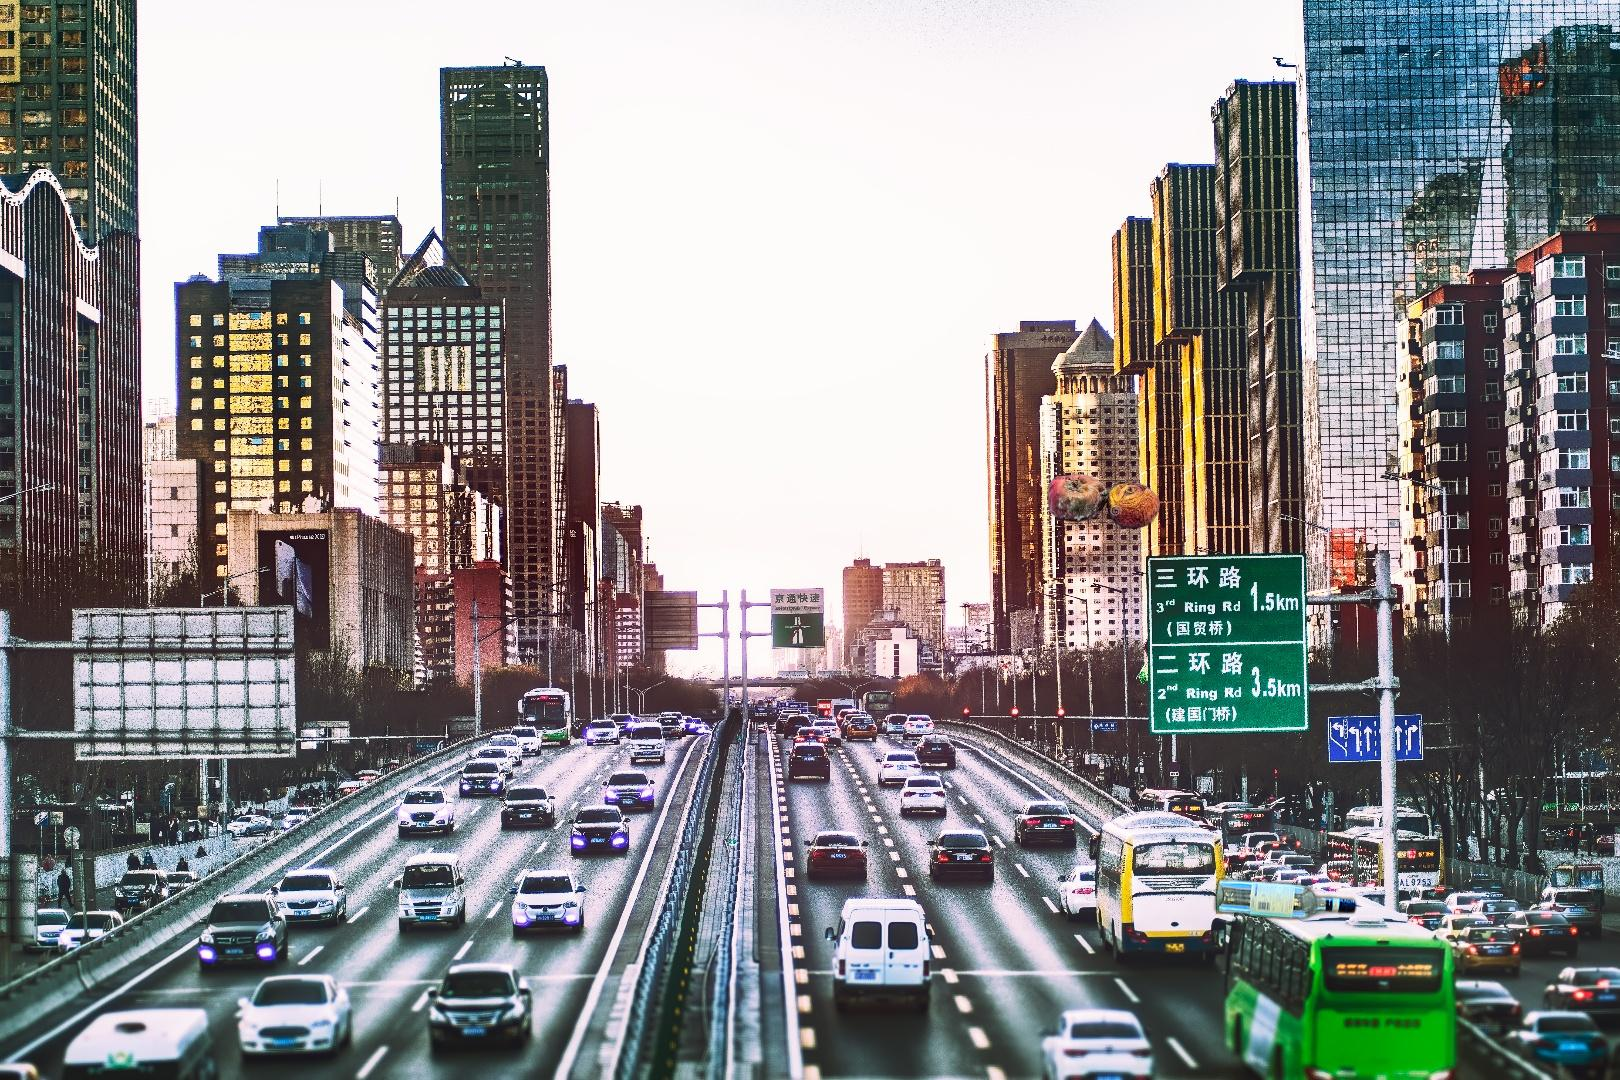biological: (1044, 471, 1163, 532)
glass: (1209, 871, 1360, 926)
